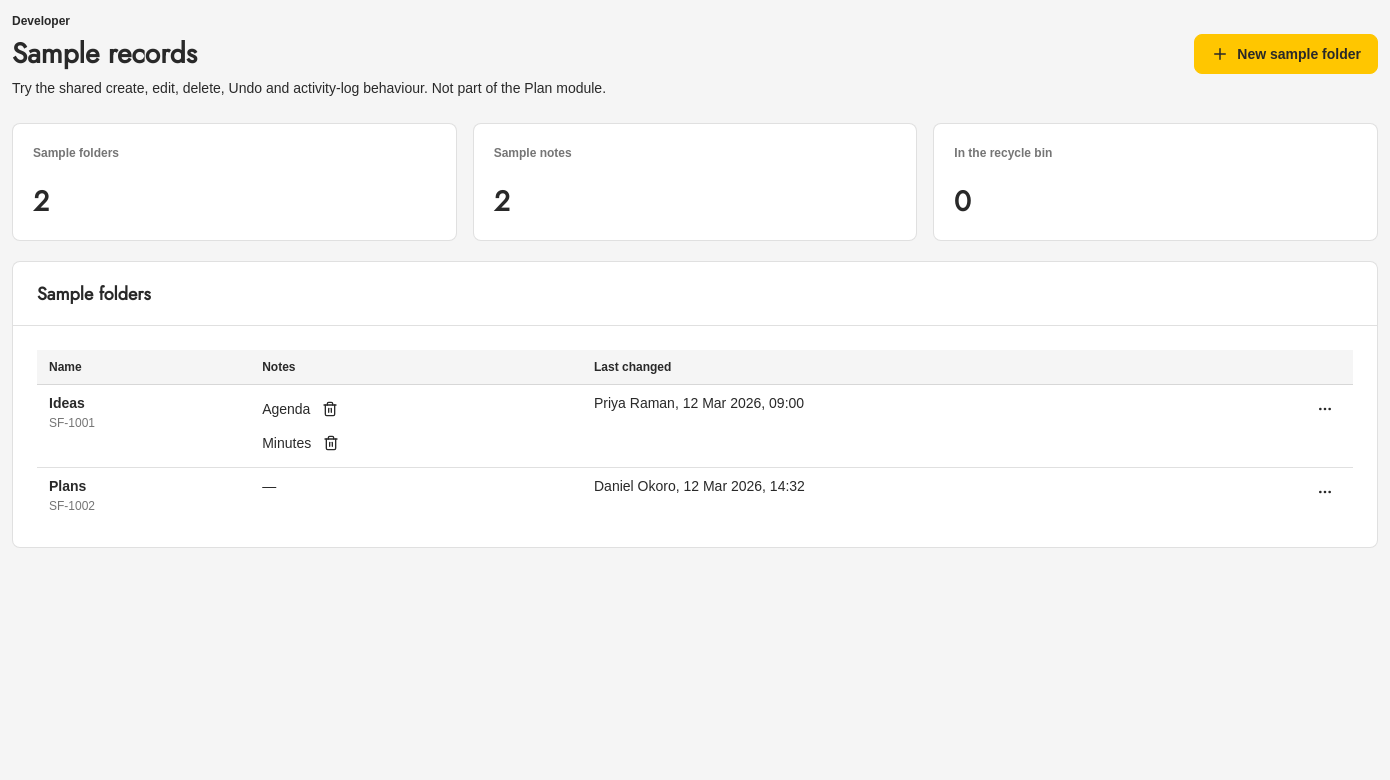
Test: SampleRecordsPage: the page › offers Edit, Add note and, after a separator, Delete for each folder (design system §6.1)
Expected: the element "Sample folders" is shown, [12, 261, 1378, 548]
Step 1. Click the button named "Actions for Ideas" → [1325, 409], box [1309, 393, 1341, 425]
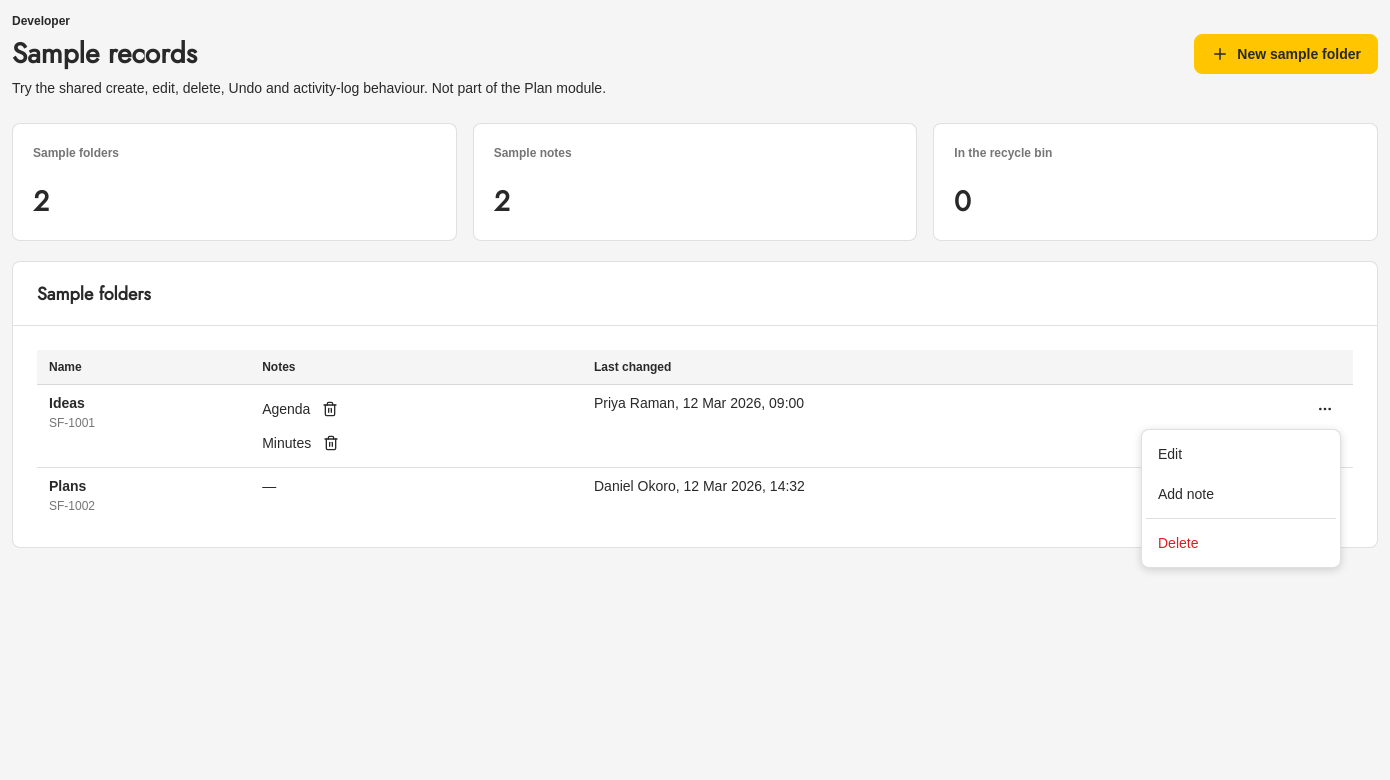
Now the menu items read "Edit", "Add note", "Delete", in this order, box [1158, 446, 1182, 462]; [1158, 486, 1214, 502]; [1158, 535, 1198, 551]
